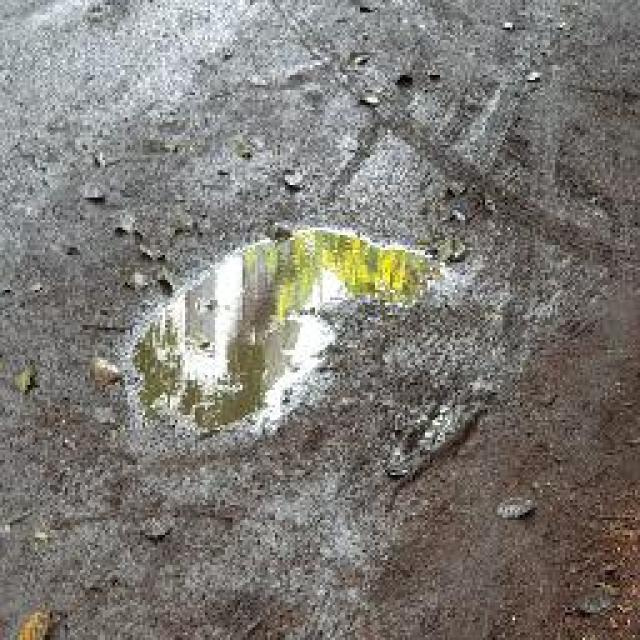stagnation: (112, 189, 439, 476)
